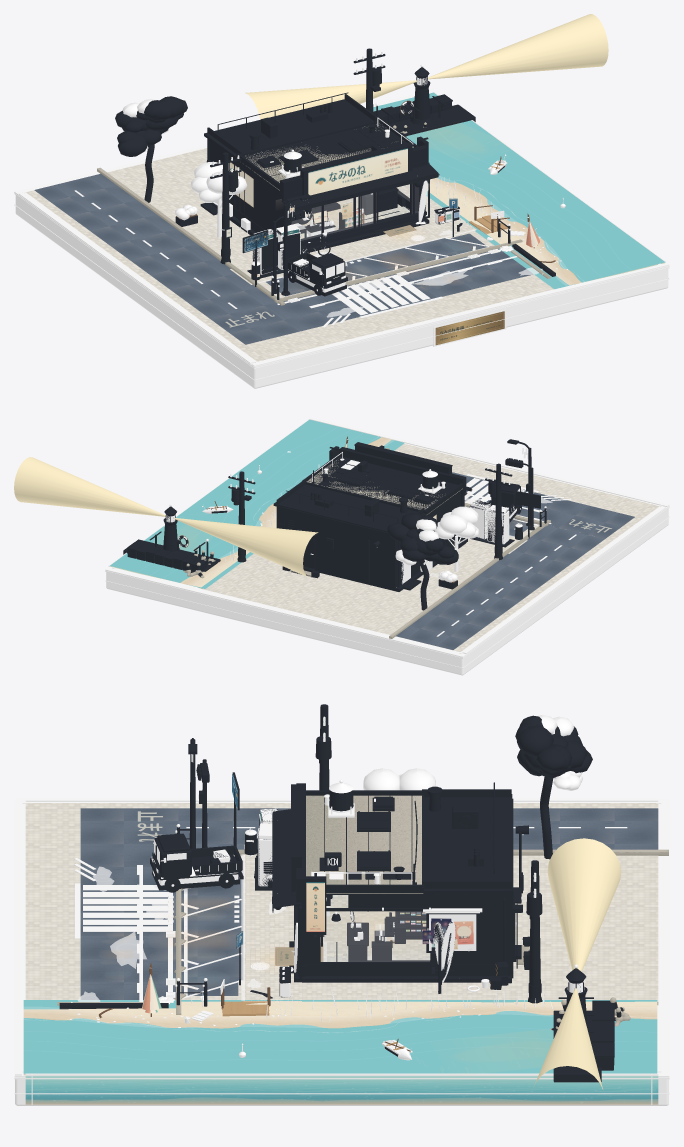
The model's file is mart1987.glb.
3 views of the same model, one above another, from view 1: azimuth 30°, elevation 25°; view 2: azimuth 150°, elevation 25°; view 3: azimuth 270°, elevation 25° (orthographic). The views are drawn at different scales.
Parts seen in each view (by area): view 1: M_0523, M_0521, SPECIAL_WATER, M_0003, OUTLINE_088, OUTLINE_089, M_0517, OUTLINE_096, SPECIAL_BEAM_00, M_0525, OUTLINE_097, M_0211 (+16 smaller); view 2: M_0521, OUTLINE_089, M_0523, M_0003, SPECIAL_WATER, M_0517, OUTLINE_088, SPECIAL_BEAM_00, OUTLINE_096, SPECIAL_BEAM_01, OUTLINE_097, M_0211 (+13 smaller); view 3: M_0521, SPECIAL_WATER, M_0523, M_0004, OUTLINE_088, OUTLINE_089, M_0211, M_0517, OUTLINE_096, M_0081, SPECIAL_BEAM_01, M_0008 (+24 smaller).
Part boxes in pixels (box(x1,y1,x2,y2)): M_0523: box(34, 173, 533, 344); M_0521: box(26, 148, 553, 361); SPECIAL_WATER: box(373, 92, 665, 289); M_0003: box(15, 195, 668, 388); OUTLINE_088: box(200, 92, 439, 253); OUTLINE_089: box(204, 99, 427, 229); M_0517: box(14, 51, 669, 368); OUTLINE_096: box(210, 48, 510, 299); SPECIAL_BEAM_00: box(428, 14, 608, 79); M_0525: box(74, 190, 517, 327); OUTLINE_097: box(373, 67, 555, 276); M_0211: box(427, 177, 664, 285); M_0521: box(201, 444, 659, 651); OUTLINE_089: box(273, 447, 466, 590); M_0523: box(396, 472, 634, 649); M_0003: box(106, 508, 668, 675); SPECIAL_WATER: box(110, 419, 404, 588); M_0517: box(105, 417, 669, 657); OUTLINE_088: box(276, 442, 472, 591); SPECIAL_BEAM_00: box(14, 457, 165, 516); OUTLINE_096: box(228, 439, 546, 562); SPECIAL_BEAM_01: box(174, 518, 318, 577); OUTLINE_097: box(123, 445, 384, 576); M_0211: box(110, 437, 391, 587); M_0521: box(25, 803, 658, 1001); SPECIAL_WATER: box(23, 1000, 657, 1073); M_0523: box(80, 808, 658, 999); M_0004: box(25, 1076, 658, 1104); OUTLINE_088: box(272, 782, 528, 983); OUTLINE_089: box(296, 783, 513, 978); M_0211: box(23, 1001, 657, 1075); M_0517: box(14, 716, 669, 1077); OUTLINE_096: box(150, 704, 542, 1006); M_0081: box(306, 795, 423, 893); SPECIAL_BEAM_01: box(547, 838, 621, 971); M_0008: box(181, 870, 242, 995).
Size of what is drawn, in the model's own units: 26.81 by 6.26 by 20.45.
421 materials, 88 textured.
